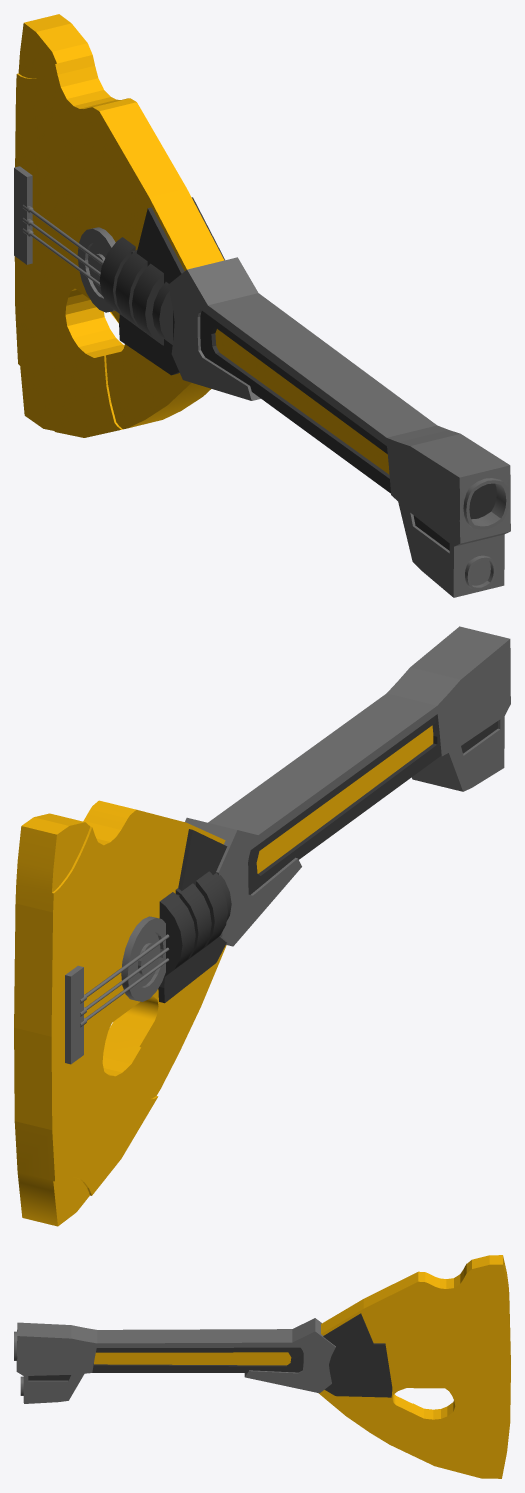
The model's file is Weapon_GG_Bloking.obj.
3 renders of one model, top to bottom at view 1: azimuth 30°, elevation 25°; view 2: azimuth 150°, elevation 25°; view 3: azimuth 270°, elevation 25°, orthographic. The views are drawn at different scales.
Parts seen in each view (by area): view 1: Osnova, Nakladka_2, Nakladka_1 Nakladka, Otverstie, pCube1, Nakladka_1 pCylinder3, Nakladka_1 pCylinder1, Dulo_1, pCylinder2 Nakladka_1, Nakladka_1 pCylinder4; view 2: Osnova, Nakladka_2, Nakladka_1 Nakladka, Otverstie, Nakladka_1 pCylinder1, pCube1, pCylinder2 Nakladka_1, Nakladka_1 pCylinder3; view 3: Osnova, Nakladka_2, Nakladka_1 Nakladka.
Part boxes in pixels (x1,y1,x2,y2): Osnova: (14, 14, 389, 474); Nakladka_2: (168, 257, 510, 597); Nakladka_1 Nakladka: (119, 197, 496, 550); Otverstie: (77, 227, 115, 312); pCube1: (14, 166, 32, 264); Nakladka_1 pCylinder3: (132, 263, 163, 345); Nakladka_1 pCylinder1: (99, 237, 135, 320); Dulo_1: (463, 478, 509, 529); pCylinder2 Nakladka_1: (115, 249, 147, 332); Nakladka_1 pCylinder4: (152, 282, 172, 344); Osnova: (14, 725, 433, 1226); Nakladka_2: (185, 626, 510, 946); Nakladka_1 Nakladka: (158, 716, 497, 1003); Otverstie: (121, 916, 165, 1001); Nakladka_1 pCylinder1: (159, 892, 195, 976); pCube1: (65, 965, 83, 1064); pCylinder2 Nakladka_1: (175, 883, 211, 964); Nakladka_1 pCylinder3: (196, 871, 227, 952); Osnova: (94, 1255, 510, 1478); Nakladka_2: (16, 1318, 335, 1403); Nakladka_1 Nakladka: (28, 1313, 392, 1397).
Bounding box in the file's own units: 41.83 × 234 × 492.
